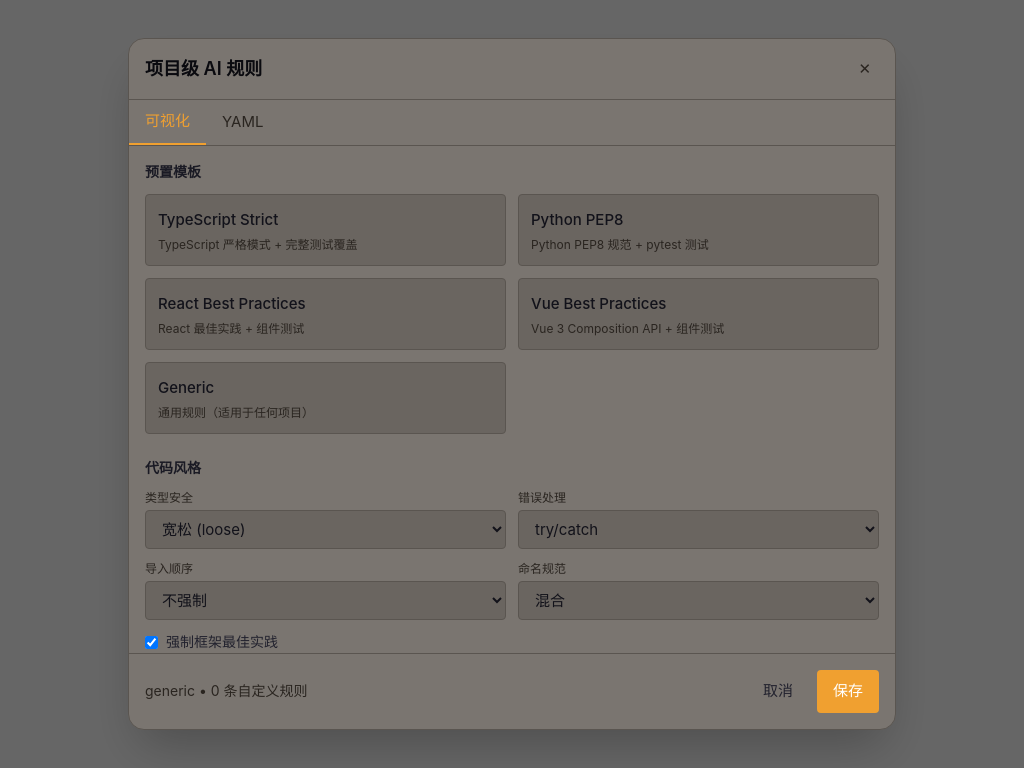
Test: RulesEditor 组件 (Cycle 18 G18-02) › 应该切换到 YAML tab
Click the button with test id "rules-tab-yaml".
click(243, 123)  # box top-left (206, 100), bottom-right (280, 145)
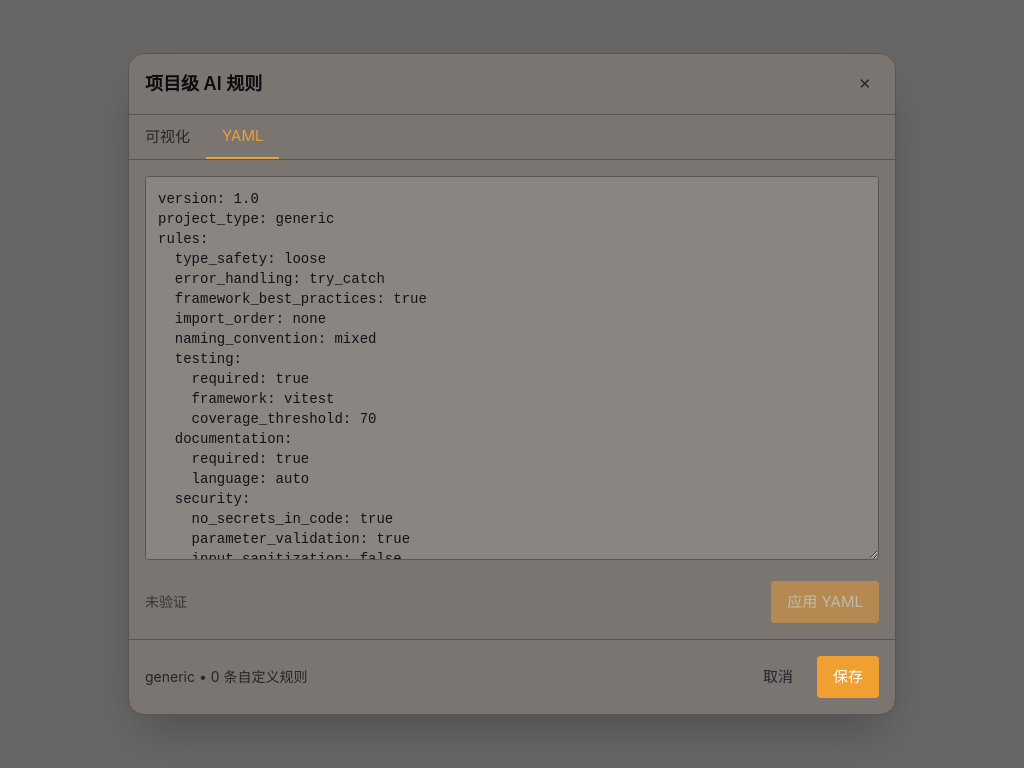
Now the text box with test id "rules-yaml-editor" is shown, box top-left (145, 176), bottom-right (879, 560)
